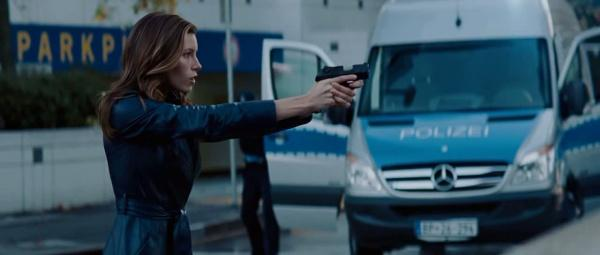Gun: (315, 63, 371, 89)
